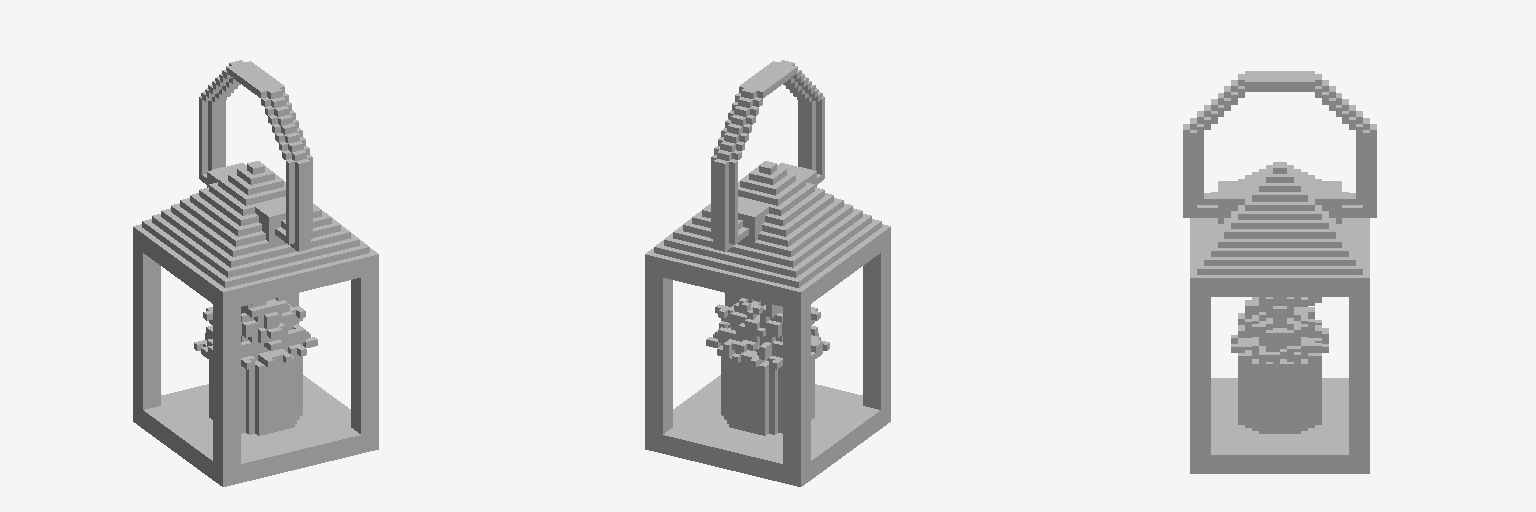
File: Lantern Lamp.obj
3 views of the same model, side by side, from view 1: azimuth 30°, elevation 25°; view 2: azimuth 150°, elevation 25°; view 3: azimuth 270°, elevation 25° (orthographic).
Visible parts, largest first — view 1: object 1; view 2: object 1; view 3: object 1.
Boxes of the visible parts, x1=… form: object 1: x1=133, y1=60, x2=378, y2=486; object 1: x1=645, y1=60, x2=890, y2=486; object 1: x1=1183, y1=71, x2=1376, y2=473.
Size of the model in its own units: 2.6 by 5.7 by 2.8.